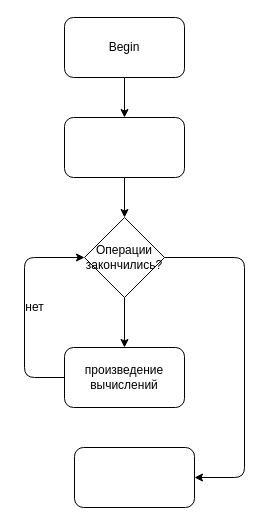
Some shapes in this 270 by 525 pixel diagram are drawn without their labels. Here are the shapes that lost their labels. From the top down, the centre of each, then its label:
the point at 124,147: Ввод чисел, объявление функции вычисления
the point at 134,477: End
